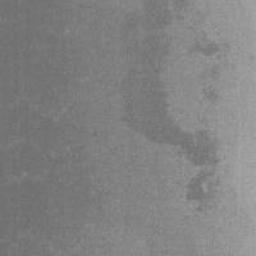Water spot: (114, 0, 237, 215), (191, 29, 220, 56), (202, 82, 221, 108)
